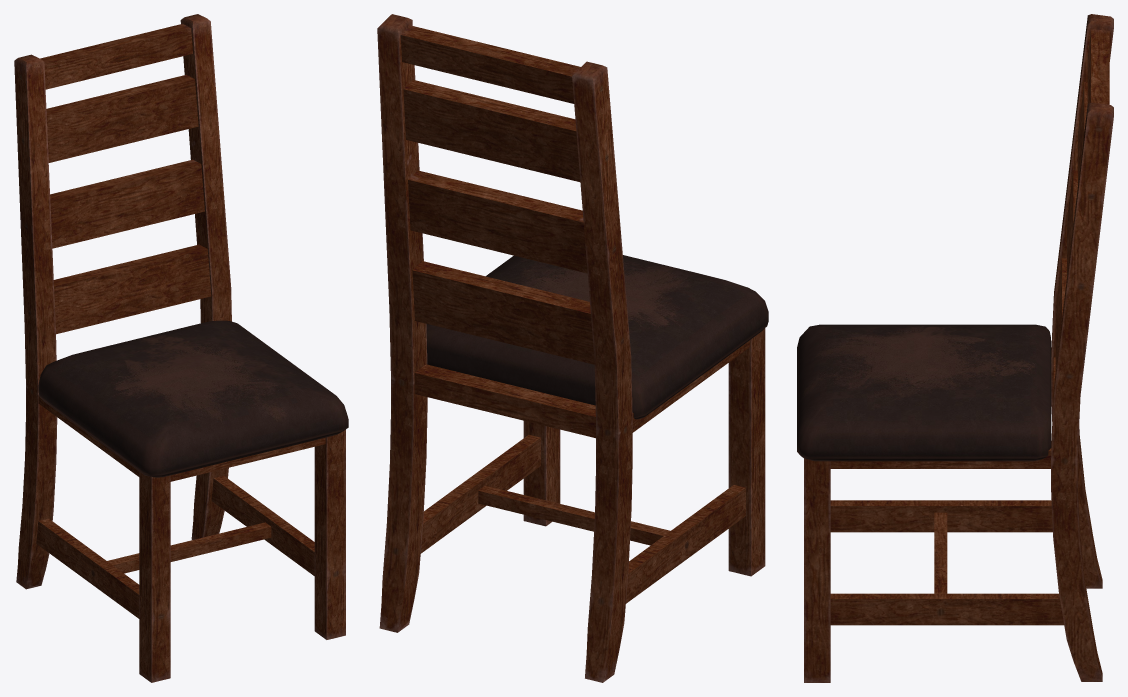
Rendered from wood_dining_chair.glb.
The picture shows the model from 3 angles, left to right: view 1: azimuth 30°, elevation 25°; view 2: azimuth 150°, elevation 25°; view 3: azimuth 270°, elevation 25°; orthographic projection. The views are drawn at different scales.
Visible parts, largest first — view 1: Cube (×2); view 2: Cube (×2); view 3: Cube (×2).
Boxes of the visible parts, x1,y1,x2,y2 form: Cube (×2): (14, 14, 348, 682); Cube (×2): (377, 14, 768, 682); Cube (×2): (797, 14, 1113, 682).
Size of the model in its own units: 0.818 by 2 by 1.01.
Materials: 2 (2 with a texture image).
